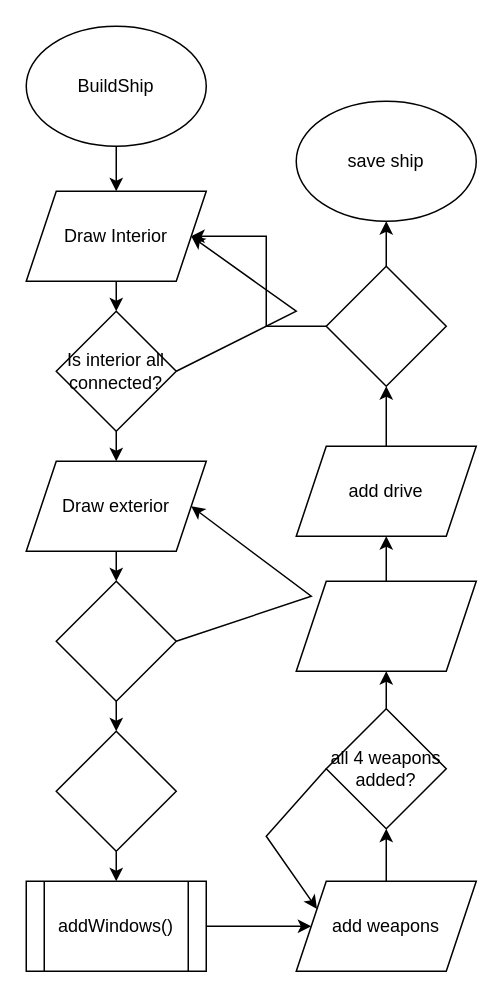
This 503x998 diagram has some shape labels left out. Here are the shapes that lost their labels. From the top down, the centre of each, then its label:
At point (385, 325): "change anything else?".
At point (115, 640): "Is exterior all connected?".
At point (385, 625): "add engine".
At point (115, 790): "Is there 1 thick wall next to interior?".
